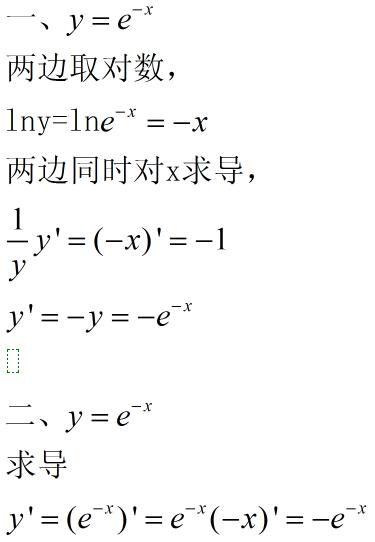division: (6, 234, 27, 251)
